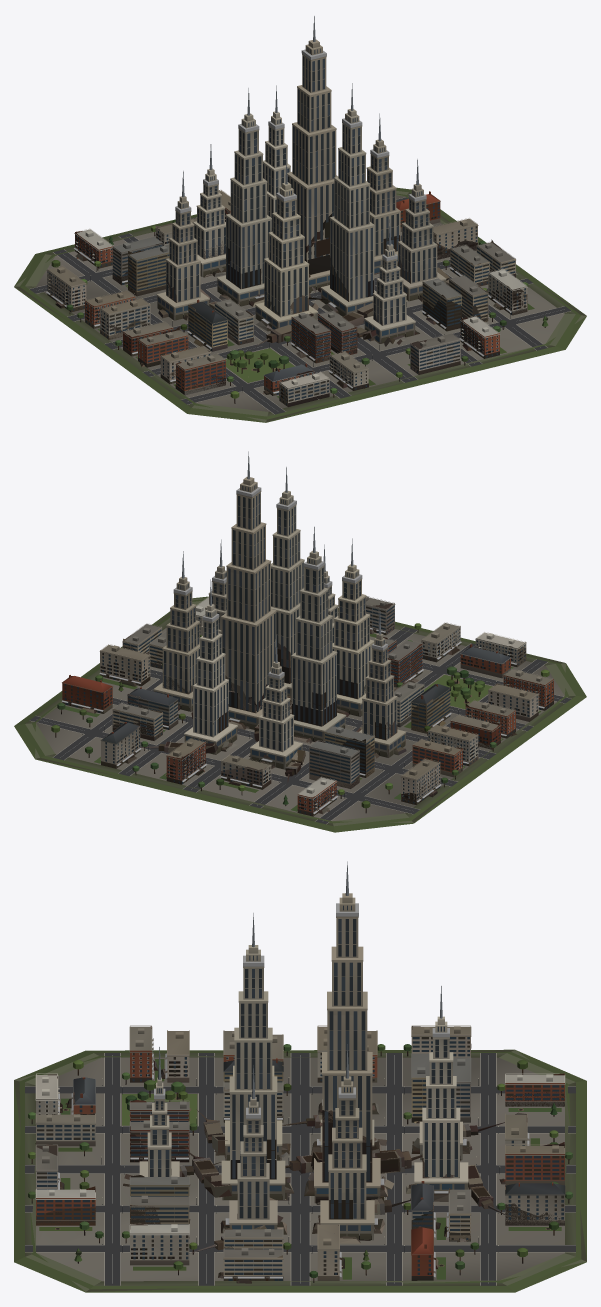
File: city_ww2_metropolis_fractured.glb
3 views of the same model, one above another, from view 1: azimuth 30°, elevation 25°; view 2: azimuth 150°, elevation 25°; view 3: azimuth 270°, elevation 25° (orthographic). The views are drawn at different scales.
Visible parts, largest first — view 1: city_ww2_metropolis_DMG_mesh, city_ww2_metropolis_RUIN_LOD0_mesh, city_ww2_metropolis_FRAC_static_mesh, city_ww2_metropolis_RUIN_LOD1_mesh, city_ww2_metropolis_RUIN_LOD2_mesh, city_ww2_metropolis_FRAC_01_mesh, city_ww2_metropolis_FRAC_02_mesh, city_ww2_metropolis_FRAC_34_mesh, city_ww2_metropolis_FRAC_06_mesh, city_ww2_metropolis_FRAC_07_mesh, city_ww2_metropolis_FRAC_24_mesh, city_ww2_metropolis_FRAC_38_mesh (+23 smaller); view 2: city_ww2_metropolis_DMG_mesh, city_ww2_metropolis_RUIN_LOD0_mesh, city_ww2_metropolis_FRAC_static_mesh, city_ww2_metropolis_RUIN_LOD1_mesh, city_ww2_metropolis_RUIN_LOD2_mesh, city_ww2_metropolis_FRAC_01_mesh, city_ww2_metropolis_FRAC_02_mesh, city_ww2_metropolis_FRAC_24_mesh, city_ww2_metropolis_FRAC_00_mesh, city_ww2_metropolis_FRAC_29_mesh, city_ww2_metropolis_FRAC_27_mesh, city_ww2_metropolis_FRAC_04_mesh (+27 smaller); view 3: city_ww2_metropolis_DMG_mesh, city_ww2_metropolis_RUIN_LOD1_mesh, city_ww2_metropolis_RUIN_LOD0_mesh, city_ww2_metropolis_FRAC_static_mesh, city_ww2_metropolis_RUIN_LOD2_mesh, city_ww2_metropolis_FRAC_01_mesh, city_ww2_metropolis_FRAC_02_mesh, city_ww2_metropolis_FRAC_38_mesh, city_ww2_metropolis_FRAC_07_mesh, city_ww2_metropolis_FRAC_34_mesh, city_ww2_metropolis_FRAC_08_mesh, city_ww2_metropolis_FRAC_18_mesh (+23 smaller).
Boxes of the visible parts, x1=… form: city_ww2_metropolis_DMG_mesh: x1=27, y1=85, x2=573, y2=415; city_ww2_metropolis_RUIN_LOD0_mesh: x1=19, y1=188, x2=581, y2=419; city_ww2_metropolis_FRAC_static_mesh: x1=14, y1=188, x2=586, y2=422; city_ww2_metropolis_RUIN_LOD1_mesh: x1=30, y1=197, x2=570, y2=404; city_ww2_metropolis_RUIN_LOD2_mesh: x1=14, y1=187, x2=586, y2=422; city_ww2_metropolis_FRAC_01_mesh: x1=275, y1=106, x2=380, y2=215; city_ww2_metropolis_FRAC_02_mesh: x1=276, y1=16, x2=336, y2=140; city_ww2_metropolis_FRAC_34_mesh: x1=419, y1=289, x2=546, y2=370; city_ww2_metropolis_FRAC_06_mesh: x1=320, y1=242, x2=376, y2=316; city_ww2_metropolis_FRAC_07_mesh: x1=329, y1=170, x2=417, y2=255; city_ww2_metropolis_FRAC_24_mesh: x1=137, y1=329, x2=233, y2=390; city_ww2_metropolis_FRAC_38_mesh: x1=437, y1=218, x2=517, y2=283; city_ww2_metropolis_DMG_mesh: x1=27, y1=527, x2=573, y2=825; city_ww2_metropolis_RUIN_LOD0_mesh: x1=17, y1=599, x2=583, y2=830; city_ww2_metropolis_FRAC_static_mesh: x1=14, y1=613, x2=586, y2=832; city_ww2_metropolis_RUIN_LOD1_mesh: x1=29, y1=610, x2=570, y2=814; city_ww2_metropolis_RUIN_LOD2_mesh: x1=15, y1=596, x2=585, y2=832; city_ww2_metropolis_FRAC_01_mesh: x1=182, y1=553, x2=276, y2=653; city_ww2_metropolis_FRAC_02_mesh: x1=183, y1=451, x2=271, y2=596; city_ww2_metropolis_FRAC_24_mesh: x1=465, y1=668, x2=553, y2=738; city_ww2_metropolis_FRAC_00_mesh: x1=222, y1=639, x2=276, y2=729; city_ww2_metropolis_FRAC_29_mesh: x1=301, y1=725, x2=375, y2=783; city_ww2_metropolis_FRAC_27_mesh: x1=414, y1=623, x2=526, y2=673; city_ww2_metropolis_FRAC_04_mesh: x1=291, y1=619, x2=337, y2=685; city_ww2_metropolis_DMG_mesh: x1=25, y1=1010, x2=575, y2=1285; city_ww2_metropolis_RUIN_LOD1_mesh: x1=32, y1=1026, x2=564, y2=1285; city_ww2_metropolis_RUIN_LOD0_mesh: x1=17, y1=1026, x2=583, y2=1290; city_ww2_metropolis_FRAC_static_mesh: x1=14, y1=1050, x2=586, y2=1292; city_ww2_metropolis_RUIN_LOD2_mesh: x1=14, y1=1044, x2=586, y2=1292; city_ww2_metropolis_FRAC_01_mesh: x1=322, y1=1007, x2=442, y2=1108; city_ww2_metropolis_FRAC_02_mesh: x1=327, y1=861, x2=442, y2=1044; city_ww2_metropolis_FRAC_38_mesh: x1=216, y1=1226, x2=341, y2=1280; city_ww2_metropolis_FRAC_07_mesh: x1=159, y1=1042, x2=277, y2=1122; city_ww2_metropolis_FRAC_34_mesh: x1=28, y1=1146, x2=150, y2=1261; city_ww2_metropolis_FRAC_08_mesh: x1=234, y1=913, x2=272, y2=1079; city_ww2_metropolis_FRAC_18_mesh: x1=168, y1=1079, x2=269, y2=1199.
Bounding box in the file's own units: 366 × 236 × 366.
